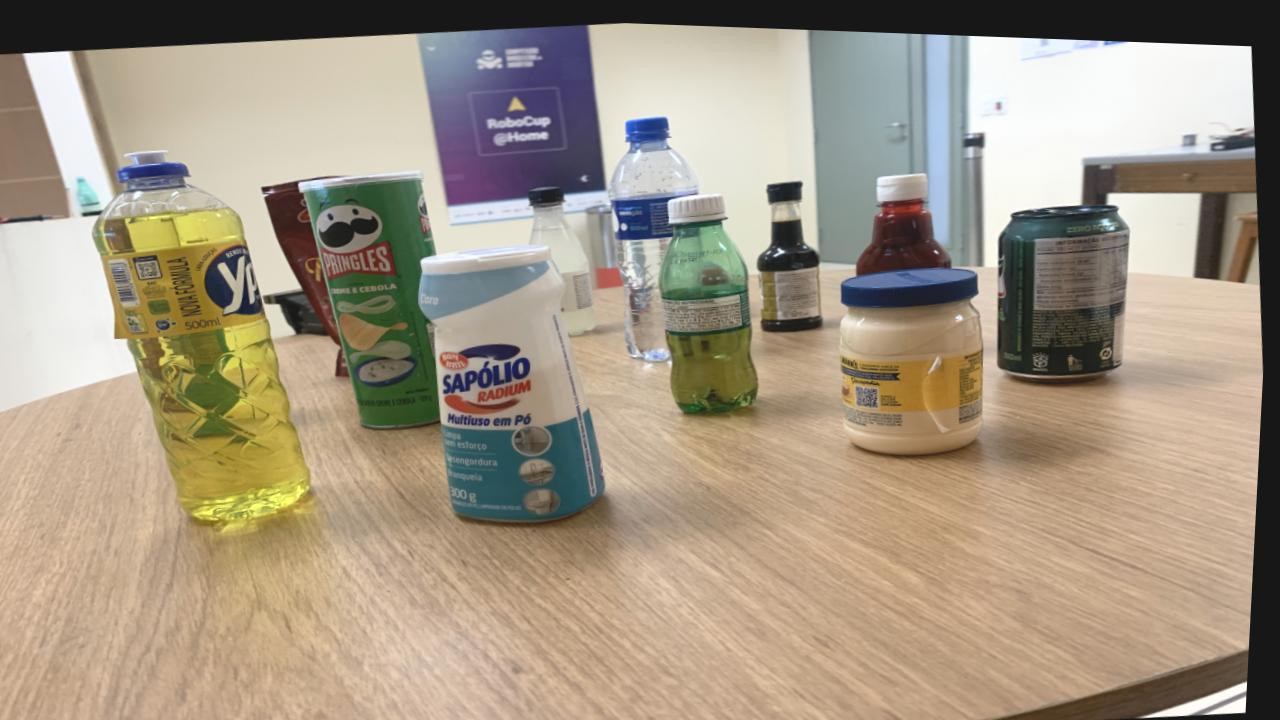Cleaner-Cleanup_Items: (421, 241, 610, 518)
Detergent-Cleanup_Items: (95, 151, 314, 520)
English_Sauce-Pantry_Items: (760, 175, 825, 326)
Guarana-Drinks: (661, 189, 761, 407)
Guarana_Can-Drinks: (999, 195, 1131, 372)
Ketchup-Pantry_Items: (858, 166, 953, 269)
Mayonnaise-Pantry_Items: (842, 260, 987, 448)
Pringles-Snacks: (300, 167, 444, 425)
Soda-Drinks: (529, 182, 598, 329)
Tomato_Sauce-Pantry_Items: (263, 180, 343, 343)
Water_Bottle-Drinks: (609, 112, 699, 356)
